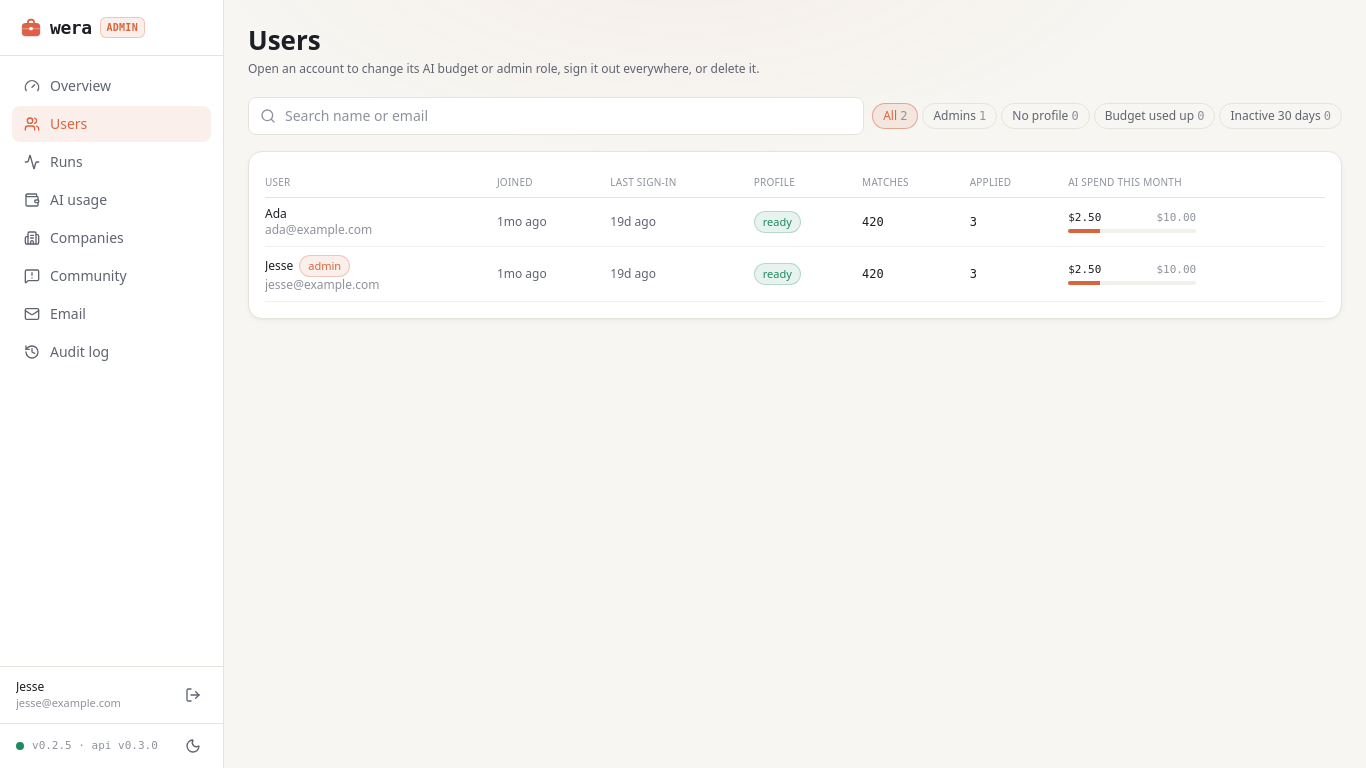
it: UsersPage › does not offer to remove your own role or delete yourself
The image size is (1366, 768).
Click the text "Jesse" below "Joined".
click(279, 265)  # box [265,257,293,274]
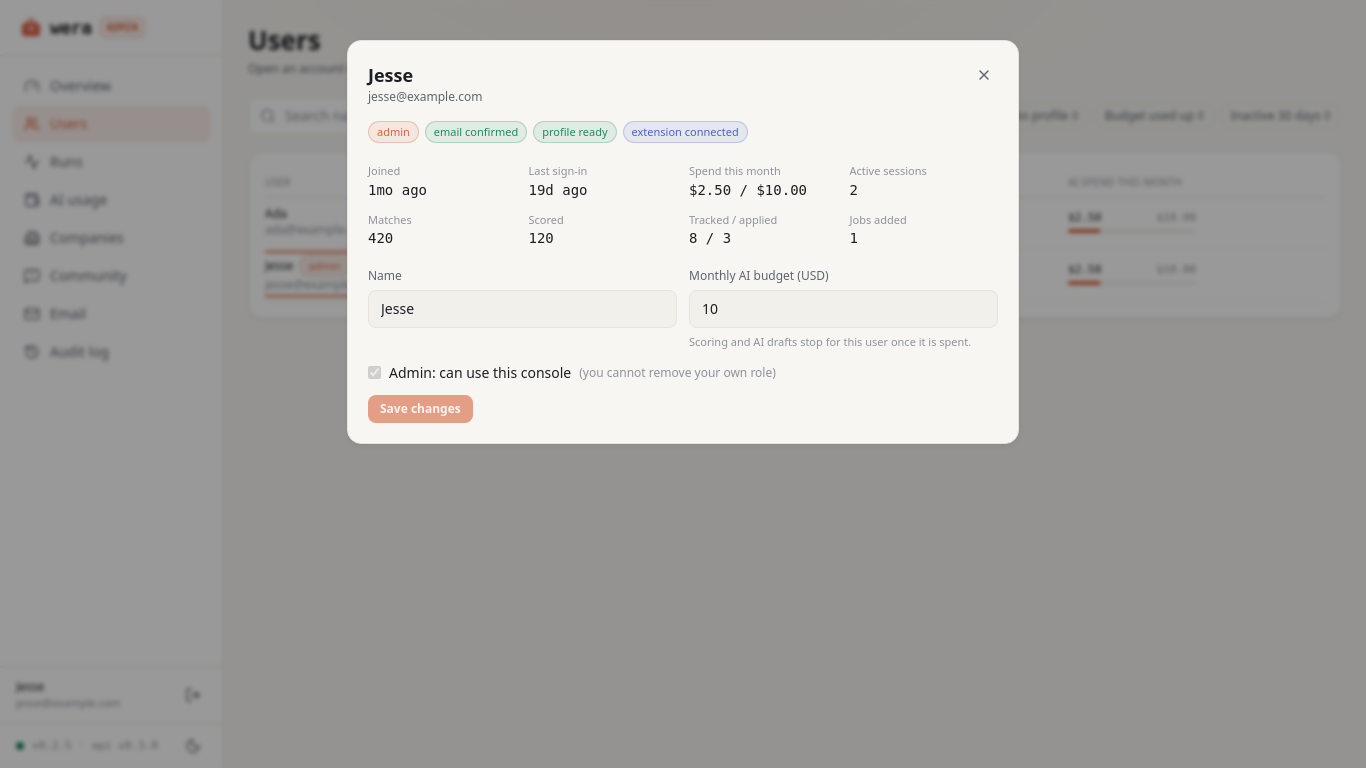
Result: the checkbox labelled "Admin: can use this console" is disabled at [368,366,381,379]
